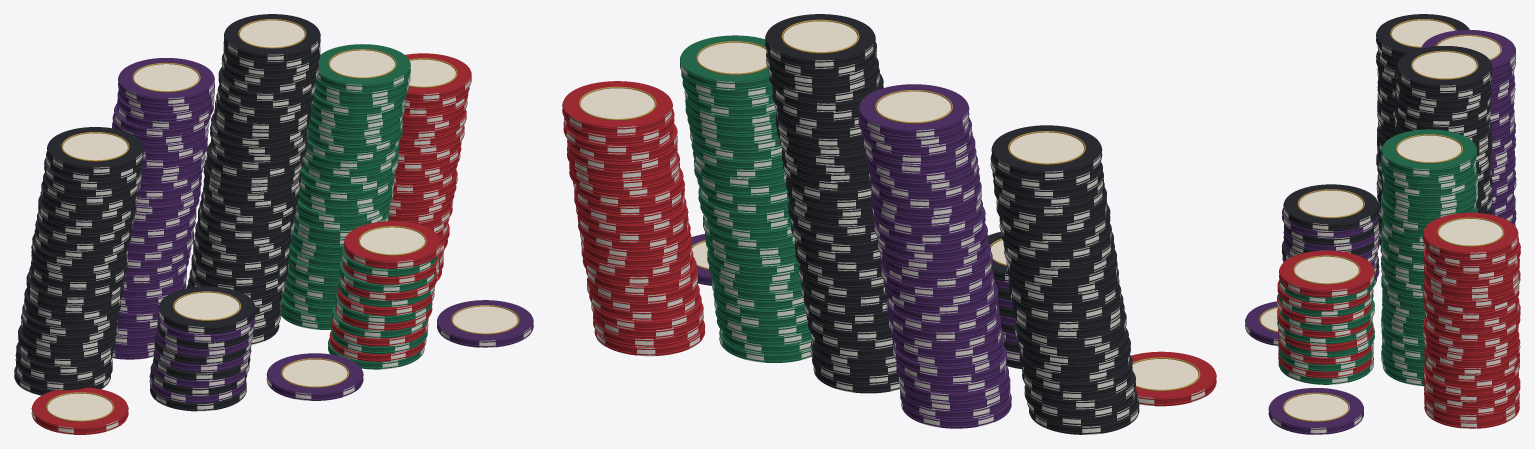
Rendered from poker-chips-all-in.glb.
3 renders of one model, left to right at view 1: azimuth 30°, elevation 25°; view 2: azimuth 150°, elevation 25°; view 3: azimuth 270°, elevation 25°, orthographic. The views are drawn at different scales.
Visible parts, largest first — view 1: chip_body (×60), face_inlay (×10); view 2: chip_body (×54), face_inlay (×6); view 3: chip_body (×63), face_inlay (×9), inlay_ring (×6).
Part boxes in pixels (x1=…): chip_body (×60): x1=16, y1=14, x2=532, y2=434; face_inlay (×10): x1=47, y1=20, x2=517, y2=420; chip_body (×54): x1=563, y1=14, x2=1215, y2=434; face_inlay (×6): x1=580, y1=21, x2=1198, y2=389; chip_body (×63): x1=1245, y1=14, x2=1520, y2=434; face_inlay (×9): x1=1260, y1=20, x2=1502, y2=420; inlay_ring (×6): x1=1282, y1=50, x2=1504, y2=421.
Size of the model in its own units: 0.2324 by 0.1279 by 0.114.
